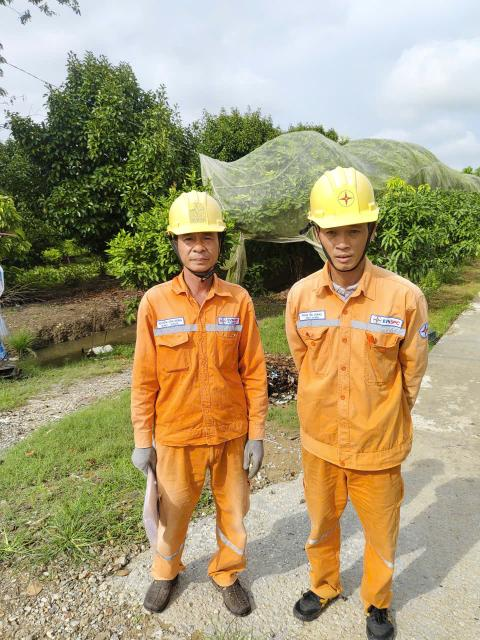gloves: (242, 423, 280, 488), (128, 434, 169, 492)
helmet: (308, 162, 392, 230), (163, 186, 226, 241)
shoes: (289, 568, 348, 638), (202, 553, 255, 622), (130, 557, 188, 613), (357, 590, 417, 640)
